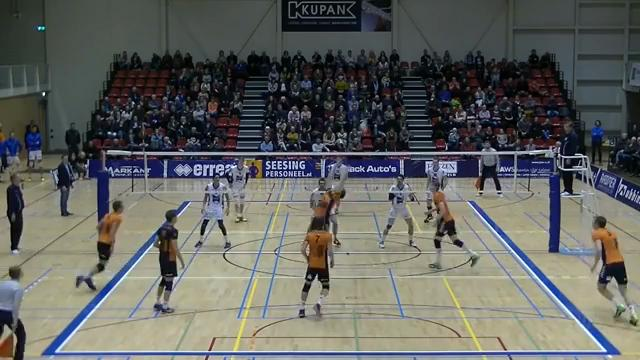alzata: (298, 163, 347, 247)
